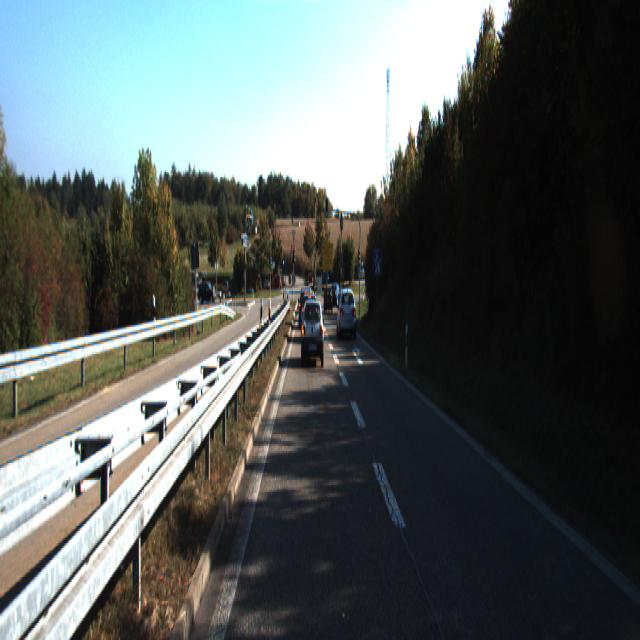Car: (301, 295, 324, 365), (336, 285, 356, 338), (300, 294, 317, 341), (324, 285, 333, 314)
